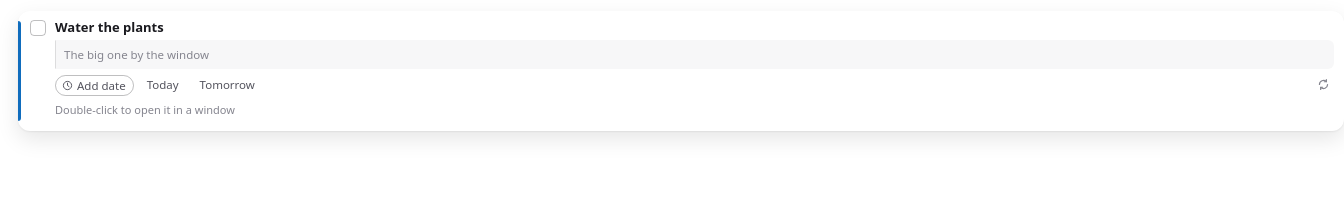
Test: TaskItem editing › walks Shift+Tab from the description back to the title
Click the text "The big one by the window" at x=136, y=54, box [64,46,209,62]
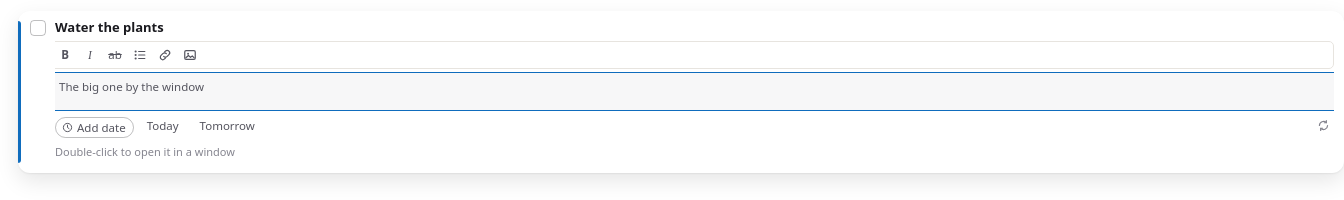
Press Shift+Tab
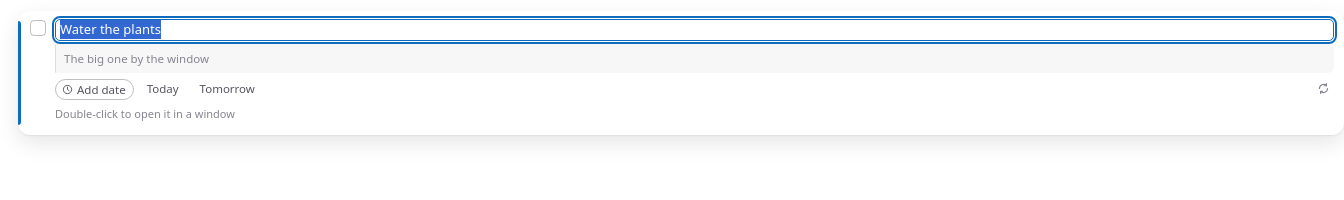
Check: the text box holds "Water the plants", box [55,19,1334,40]
